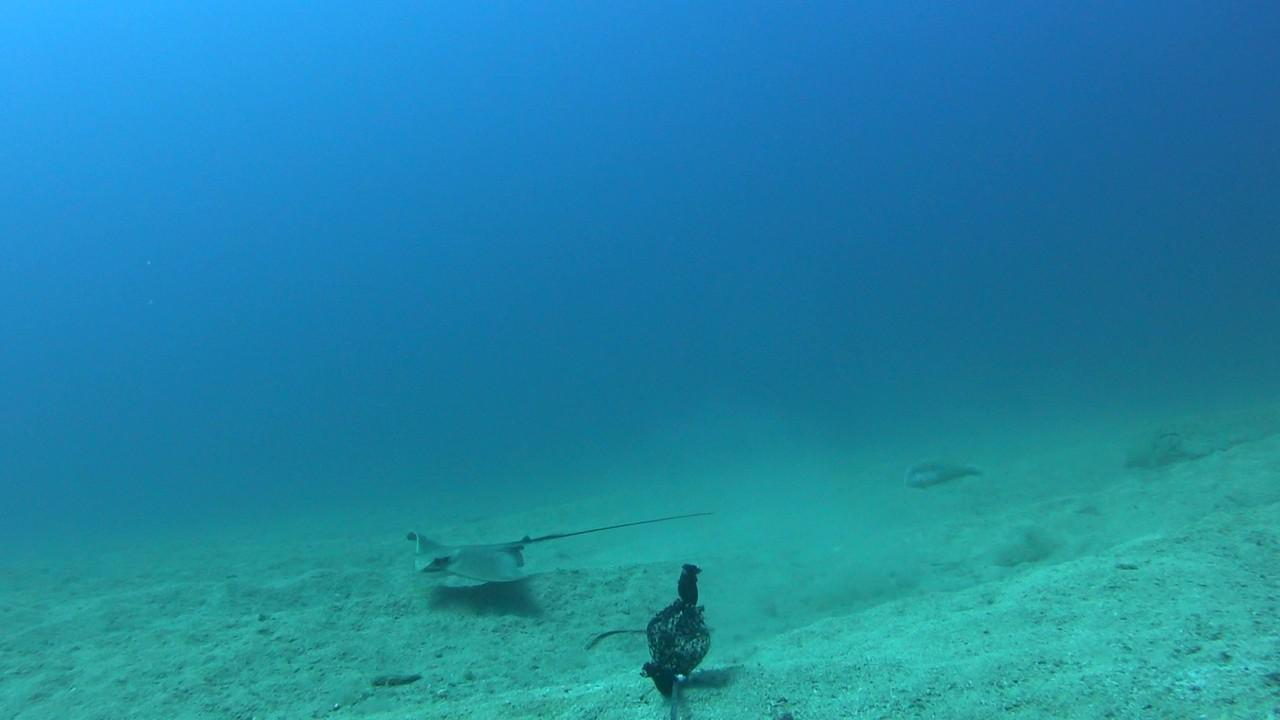myliobatis: (410, 492, 736, 592)
raor: (899, 456, 985, 494)
